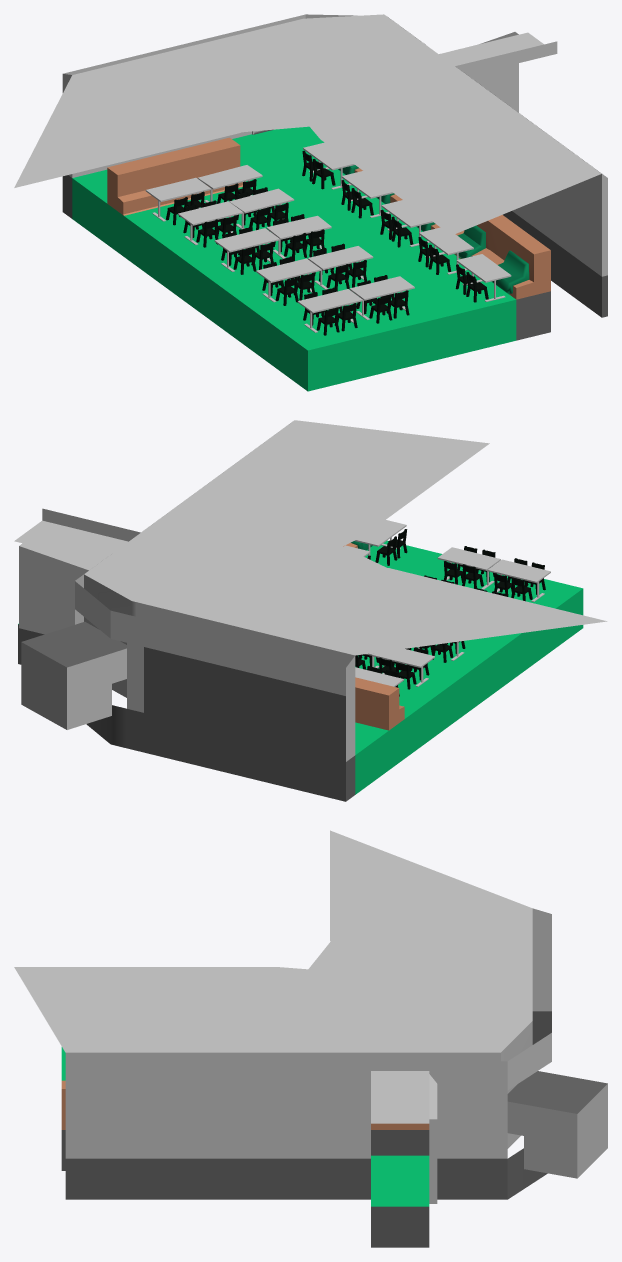
File: Kafeterian.fbx
3 renders of one model, top to bottom at view 1: azimuth 30°, elevation 25°; view 2: azimuth 150°, elevation 25°; view 3: azimuth 270°, elevation 25°, orthographic. The views are drawn at different scales.
Visible parts, largest first — view 1: Grupp2_pCube1; view 2: Grupp2_pCube1; view 3: Grupp2_pCube1.
Boxes of the visible parts, left/top/right/bottom form: Grupp2_pCube1: left=14, top=14, right=607, bottom=391; Grupp2_pCube1: left=14, top=420, right=607, bottom=801; Grupp2_pCube1: left=14, top=830, right=607, bottom=1247.
Bounding box in the file's own units: 106 × 25.88 × 96.73.
